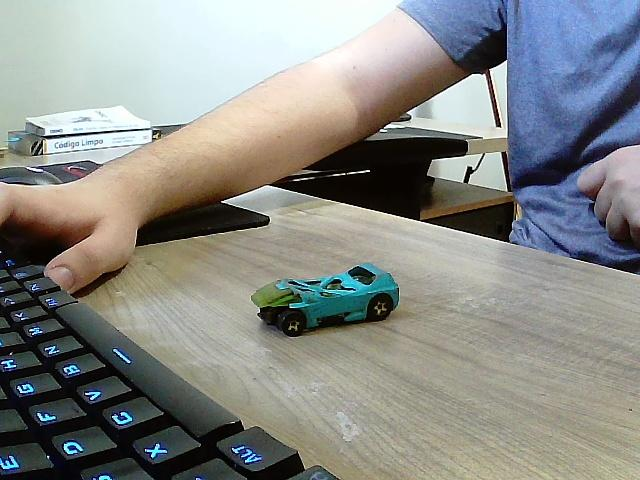Carro: (252, 264, 400, 338)
